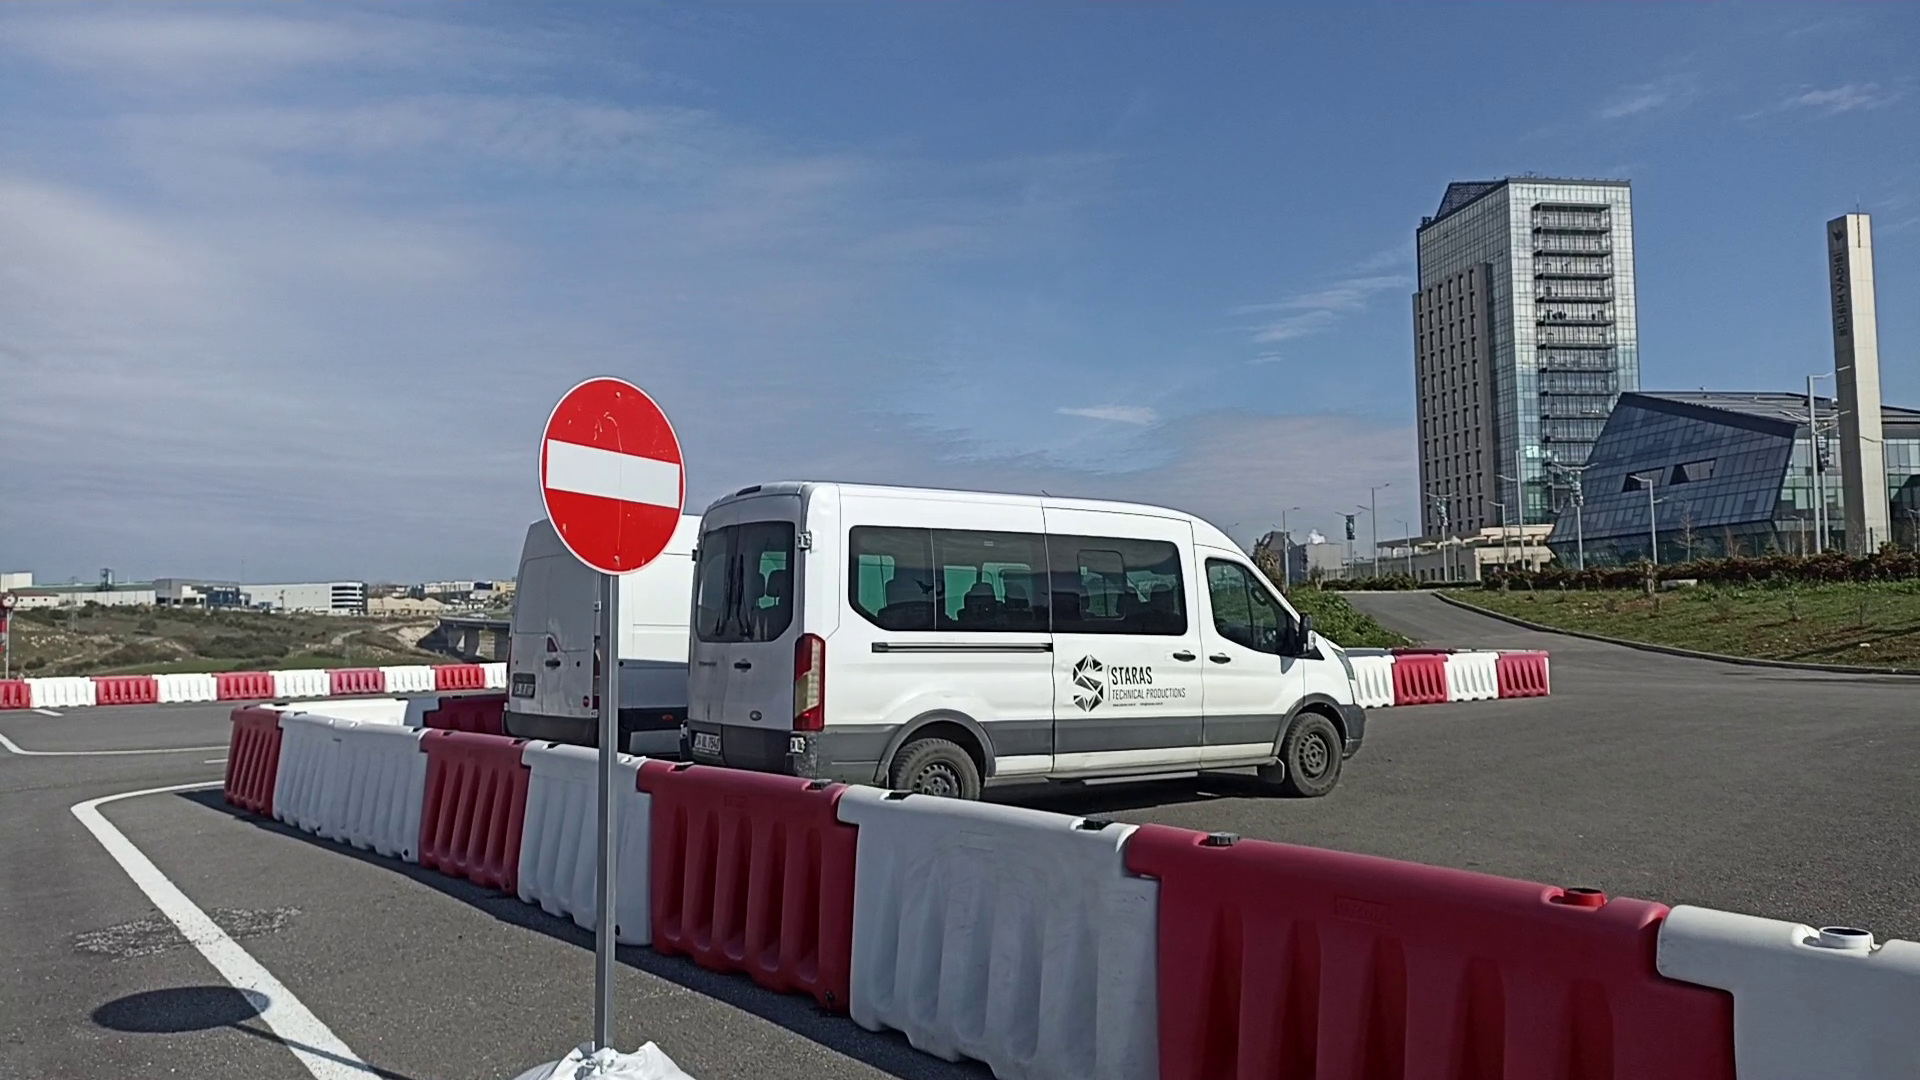noentryway: (537, 372, 688, 578)
